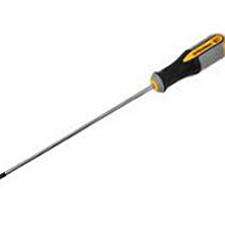Screwdriver: (1, 30, 225, 185)
